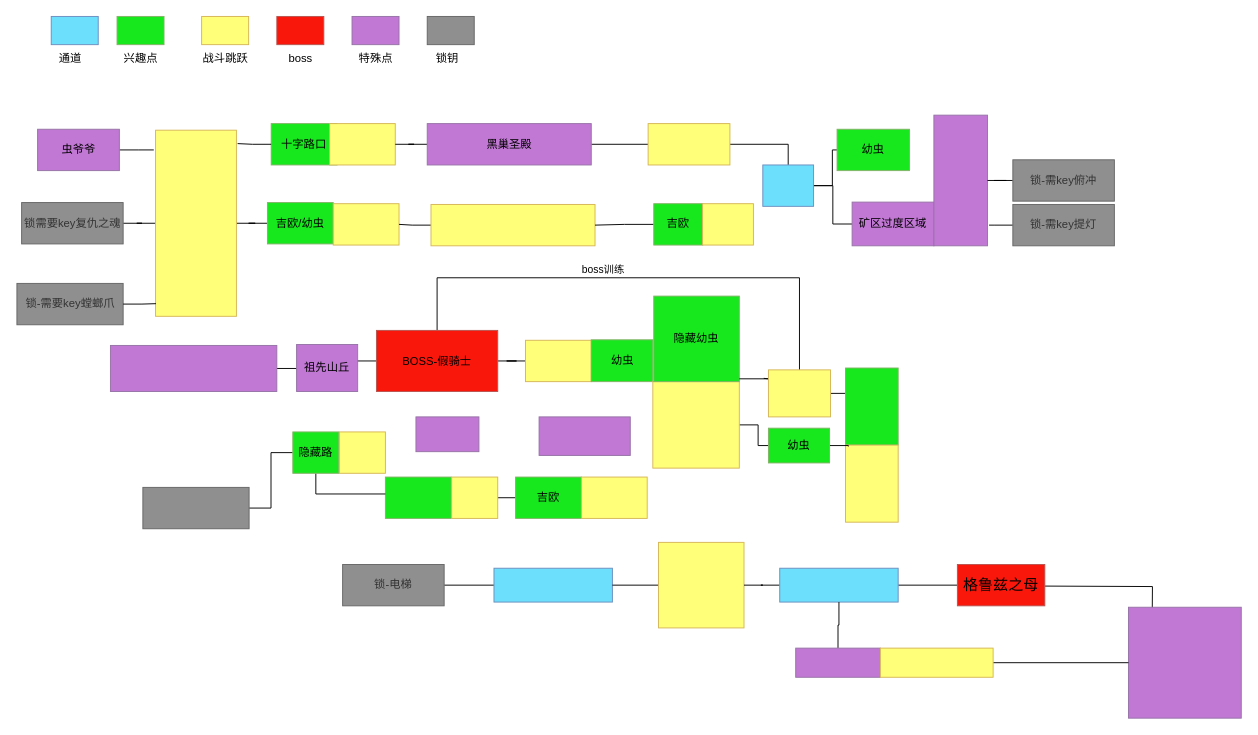
Image size: 1258x735. Some labels were removed from this diagram. Here are the shapes that lost their labels. From the top down, the centre of each, then its label:
the point at 362,144: 起始点
the point at 960,180: 矿区电梯补给点
the point at 193,368: 柯尼法(获取key的npc)
the point at 799,393: 躯壳战士
the point at 447,434: 椅子
the point at 584,435: 鹿角车站
the point at 195,507: 锁-需要key冲刺
the point at 417,497: 不可直接到达兴趣点
the point at 837,662: npc斯莱
the point at 1184,662: 无法直接到达的椅子和房间(需要key二段跳)
